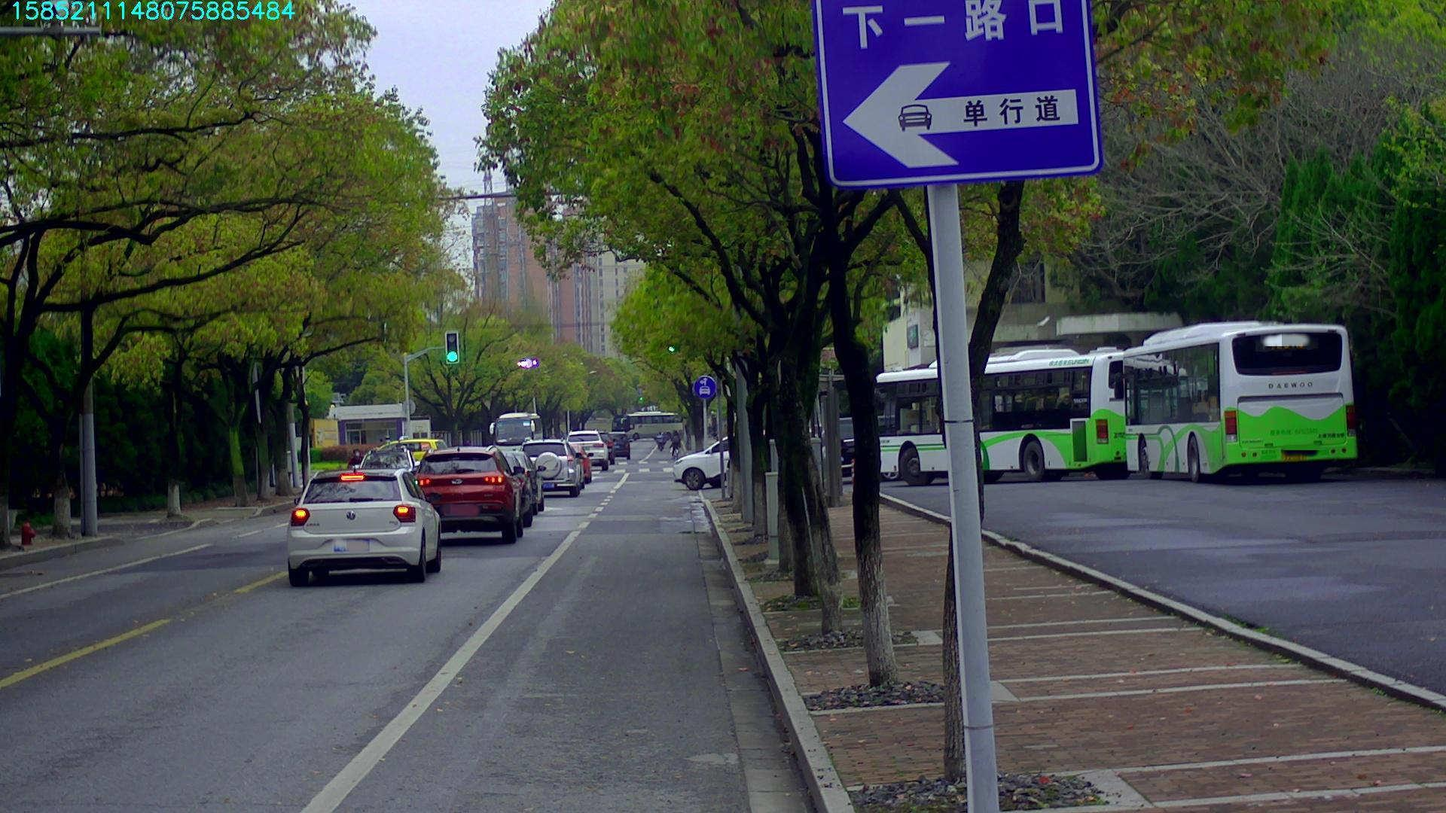green: (445, 331, 457, 363)
